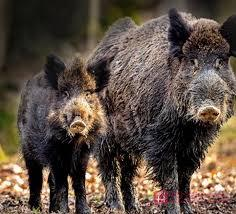Hog: (84, 4, 236, 214), (17, 51, 112, 214)
